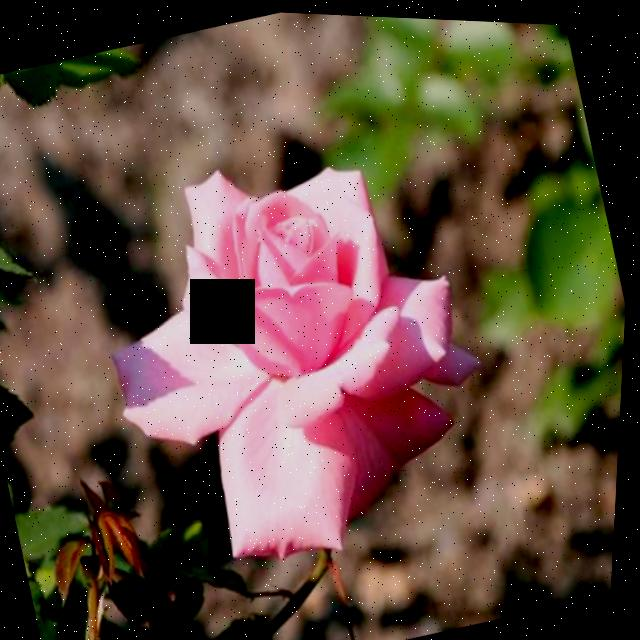rose: (0, 34, 580, 640)
